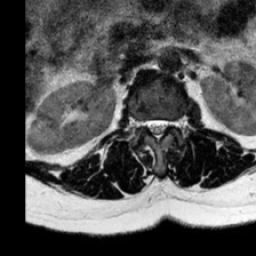CCS_normal: (153, 109, 160, 150)
LFS_stenosis: (169, 110, 178, 135)
LLS_normal: (160, 111, 169, 138)
RFS_normal: (136, 109, 145, 136)
RLS_normal: (145, 111, 153, 140)
